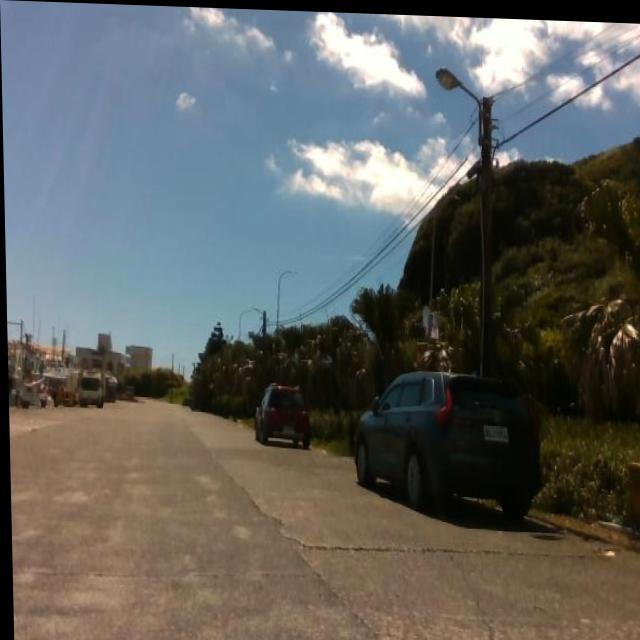pollute: (617, 453, 640, 539)
